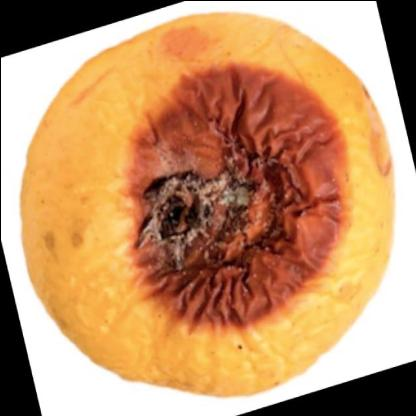defect: (106, 52, 350, 338)
